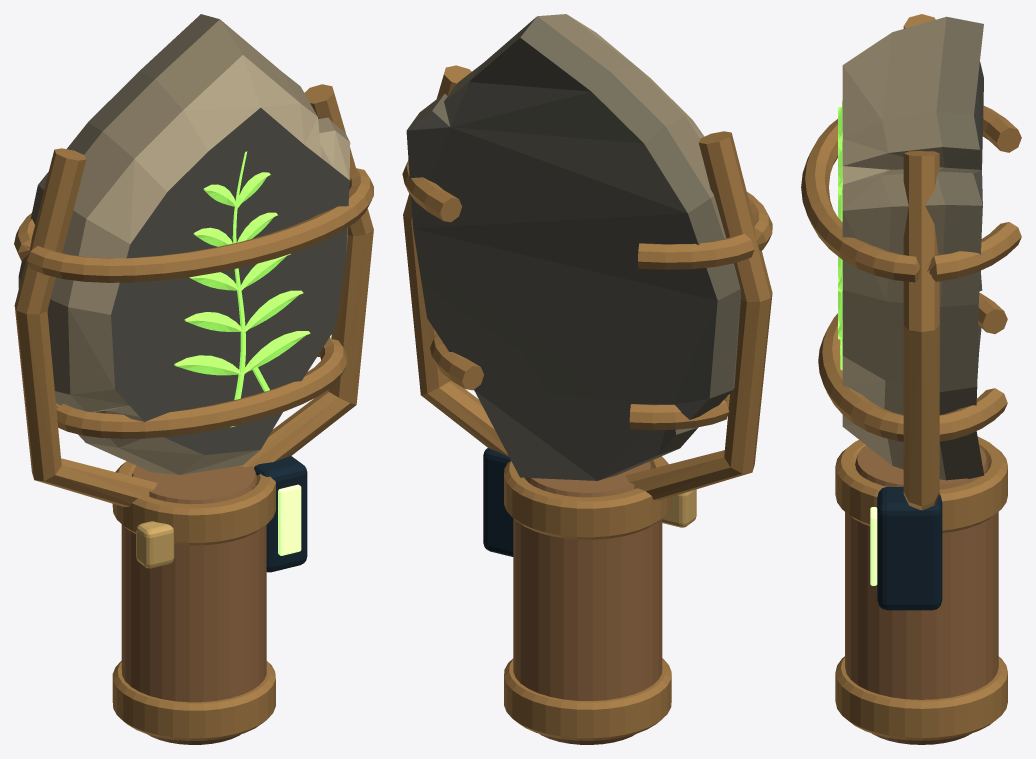
The model's file is KEEPSTONE_TOOL.hi.glb.
3 views of the same model, side by side, from view 1: azimuth 30°, elevation 25°; view 2: azimuth 150°, elevation 25°; view 3: azimuth 270°, elevation 25° (orthographic). The views are drawn at different scales.
Visible parts, largest first — view 1: Body_Mesh; view 2: Body_Mesh; view 3: Body_Mesh.
Boxes of the visible parts, box(x1,y1,x2,y2) form: Body_Mesh: box(14, 14, 373, 744); Body_Mesh: box(402, 14, 772, 744); Body_Mesh: box(801, 14, 1021, 744).
Bounding box in the file's own units: 0.181 × 0.3324 × 0.0921.
Materials: 1 (1 with a texture image).
